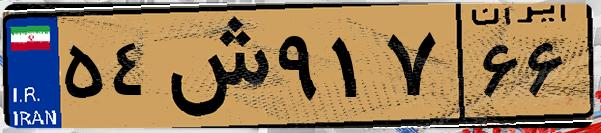1: (330, 28, 385, 110)
4: (110, 28, 158, 98)
5: (57, 26, 110, 100)
6: (475, 38, 525, 113), (525, 38, 570, 115)
7: (385, 28, 445, 110)
9: (270, 28, 330, 110)
ش: (158, 12, 270, 120)
